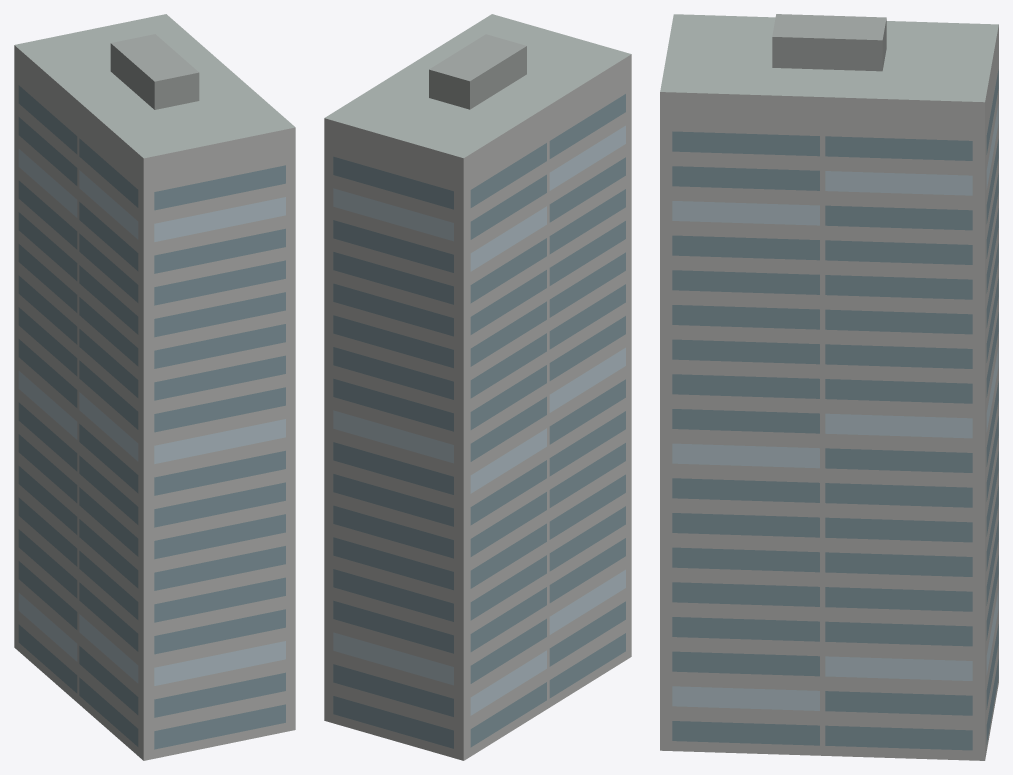
Rendered from fallback-sk-bukhansan-city-117.glb.
3 renders of one model, left to right at view 1: azimuth 30°, elevation 25°; view 2: azimuth 150°, elevation 25°; view 3: azimuth 270°, elevation 25°, orthographic. The views are drawn at different scales.
Parts seen in each view (by area): view 1: fallback-sk-bukhansan-city-117; view 2: fallback-sk-bukhansan-city-117; view 3: fallback-sk-bukhansan-city-117.
Part boxes in pixels (x1=…): fallback-sk-bukhansan-city-117: x1=14, y1=14, x2=295, y2=760; fallback-sk-bukhansan-city-117: x1=324, y1=14, x2=631, y2=760; fallback-sk-bukhansan-city-117: x1=660, y1=14, x2=998, y2=760.
Bounding box in the file's own units: 13.96 × 51 × 22.7.
